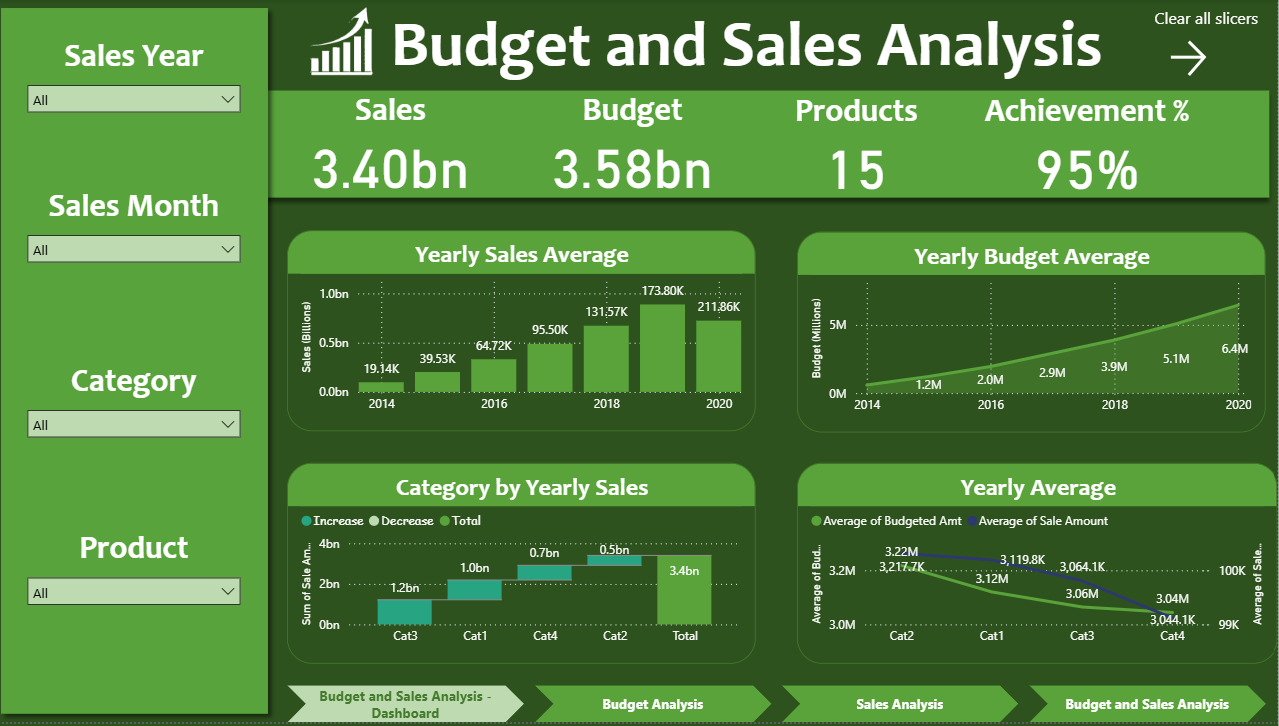

The page's visual inventory and layout, read from the dashboard file:
{"tool":"powerbi","page":{"name":"Budget and Sales Analysis  -  Dashboard","canvas":[1280,720],"ordinal":0},"visuals":[{"type":"shape","box":[246.3,82.1,1033.7,124.4],"z":0},{"type":"card","title":"Budget","fields":{"Values":["Measure Table.Budget_total"]},"box":[531,89.1,212.7,105.7],"z":1000},{"type":"card","title":"Sales","fields":{"Values":["Measure Table.Sales_total"]},"box":[306.4,89.5,181.1,105.7],"z":2000},{"type":"card","title":"Products","fields":{"Values":["Measure Table.Total_Products"]},"box":[753.3,90.5,212.7,105.7],"z":3000},{"type":"card","title":"Achievement %","fields":{"Values":["Budget.Acheivement %"]},"box":[966.3,90.6,246.3,105.7],"z":4000},{"type":"shape","box":[0,0,283.6,720.3],"z":5000},{"type":"slicer","title":"Sales Year","fields":{"Values":["Sales.Date.Variation.Date Hierarchy.Year"]},"box":[24.9,36.1,232.6,92.1],"z":6000},{"type":"slicer","title":"Product","fields":{"Values":["Product Master.Product Name"]},"box":[24.9,526.2,232.6,92.1],"z":7000},{"type":"slicer","title":"Sales Month","fields":{"Values":["Sales.Date.Variation.Date Hierarchy.Month"]},"box":[24.9,185.3,232.6,92.1],"z":8000},{"type":"slicer","title":"Category","fields":{"Values":["Product Master.Category"]},"box":[24.9,359.5,232.6,92.1],"z":9000},{"type":"columnChart","title":"Yearly Sales Average ","fields":{"Y":["Sum(Sales.Sale Amount)"],"Category":["Sales.Date.Variation.Date Hierarchy.Year"]},"box":[294.1,230.4,466.5,200.3],"z":10000},{"type":"stackedAreaChart","title":"Yearly Budget Average ","fields":{"Y":["Avg(Budget.Budgeted Amt)"],"Category":["Budget.Month.Variation.Date Hierarchy.Year"]},"box":[801.6,231.6,466.5,200.3],"z":11000},{"type":"waterfallChart","title":"Category by Yearly Sales","fields":{"Category":["Product Master.Category"],"Y":["Sum(Sales.Sale Amount)"]},"box":[294.1,461.8,466.5,200.3],"z":12000},{"type":"textbox","title":"Budget and Sales Analysis","box":[391.8,5,736.4,77.1],"z":13000},{"type":"actionButton","box":[1166.8,36.1,100.8,46],"z":14000},{"type":"pageNavigator","box":[293.6,682.9,974,37.3],"z":15000},{"type":"actionButton","box":[1149.4,0,118.2,36.1],"z":16000},{"type":"image","box":[307.3,1.2,84.6,84.6],"z":17000},{"type":"lineChart","title":"Yearly Average ","fields":{"Y":["Avg(Budget.Budgeted Amt)"],"Y2":["Avg(Sales.Sale Amount)"],"Category":["Product Master.Category"]},"box":[801.1,461.5,478.9,200.3],"z":18000}]}

Visuals, with their boxes in screenshot pixels (x1, y1, x2, y2), scaled from the page's 1280x720 canvas onto the 1279x726 screenshot:
shape: x1=246 y1=83 x2=1278 y2=208
"Budget" card: x1=531 y1=90 x2=743 y2=196
"Sales" card: x1=306 y1=90 x2=487 y2=197
"Products" card: x1=753 y1=91 x2=965 y2=198
"Achievement %" card: x1=966 y1=91 x2=1212 y2=198
shape: x1=0 y1=0 x2=283 y2=725
"Sales Year" slicer: x1=25 y1=36 x2=257 y2=129
"Product" slicer: x1=25 y1=531 x2=257 y2=623
"Sales Month" slicer: x1=25 y1=187 x2=257 y2=280
"Category" slicer: x1=25 y1=362 x2=257 y2=455
"Yearly Sales Average " columnChart: x1=294 y1=232 x2=760 y2=434
"Yearly Budget Average " stackedAreaChart: x1=801 y1=234 x2=1267 y2=435
"Category by Yearly Sales" waterfallChart: x1=294 y1=466 x2=760 y2=668
"Budget and Sales Analysis" textbox: x1=391 y1=5 x2=1127 y2=83
actionButton: x1=1166 y1=36 x2=1267 y2=83
pageNavigator: x1=293 y1=689 x2=1267 y2=725
actionButton: x1=1149 y1=0 x2=1267 y2=36
image: x1=307 y1=1 x2=392 y2=87
"Yearly Average " lineChart: x1=800 y1=465 x2=1278 y2=667
